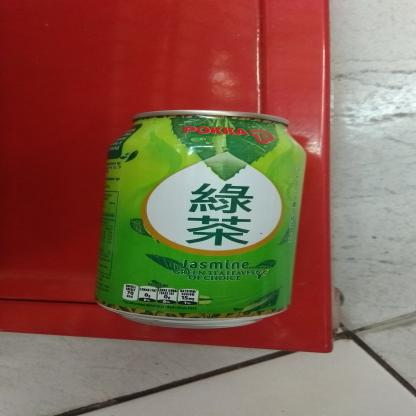bottle: (91, 106, 320, 332)
